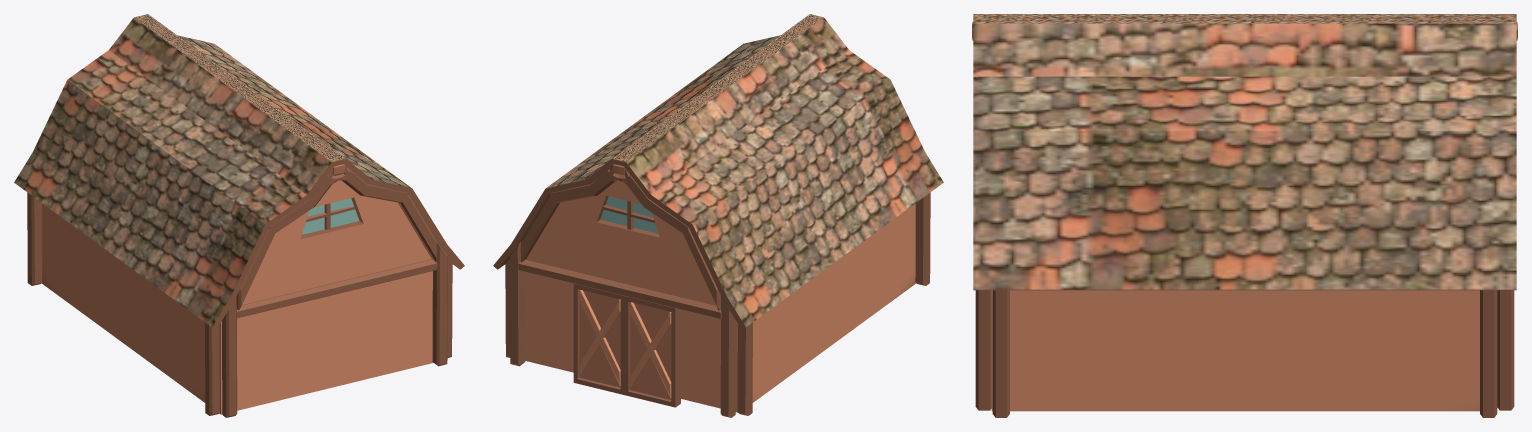
The model's file is Shed.fbx.
3 renders of one model, left to right at view 1: azimuth 30°, elevation 25°; view 2: azimuth 150°, elevation 25°; view 3: azimuth 270°, elevation 25°, orthographic. The views are drawn at different scales.
Visible parts, largest first — view 1: WholeSHed; view 2: WholeSHed, Doors.002, DoorWall.003, DoorWall.004, DoorFrame.001, WholeSHed.002, DoorWall.005; view 3: WholeSHed.
Part boxes in pixels (left/top/right/bottom): WholeSHed: left=14, top=14, right=464, bottom=417; WholeSHed: left=493, top=14, right=943, bottom=417; Doors.002: left=579, top=289, right=671, bottom=399; DoorWall.003: left=525, top=255, right=584, bottom=372; DoorWall.004: left=672, top=290, right=737, bottom=412; DoorFrame.001: left=573, top=284, right=680, bottom=407; WholeSHed.002: left=579, top=290, right=671, bottom=398; DoorWall.005: left=585, top=269, right=671, bottom=294; WholeSHed: left=972, top=14, right=1517, bottom=417.
Bounding box in the file's own units: 618 × 558 × 843.
Materials: 1 (1 with a texture image).
